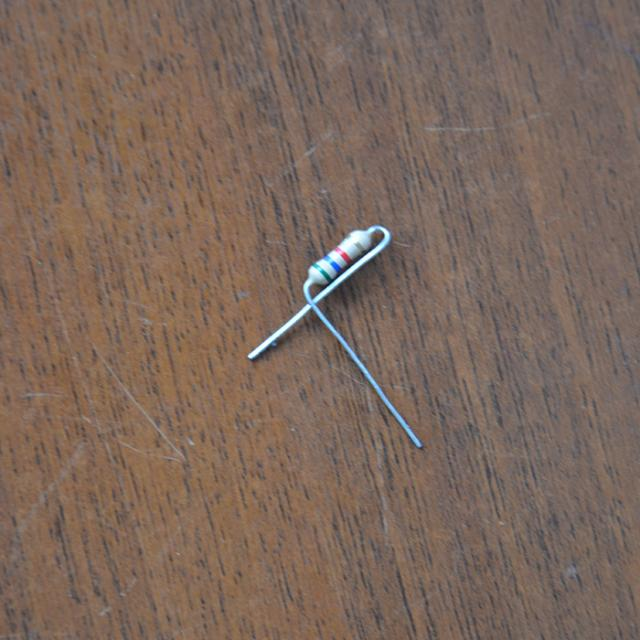blue: (325, 256, 339, 272)
gold: (347, 232, 364, 253)
green: (313, 263, 331, 282)
red: (335, 247, 352, 264)
resistor: (300, 221, 377, 289)
